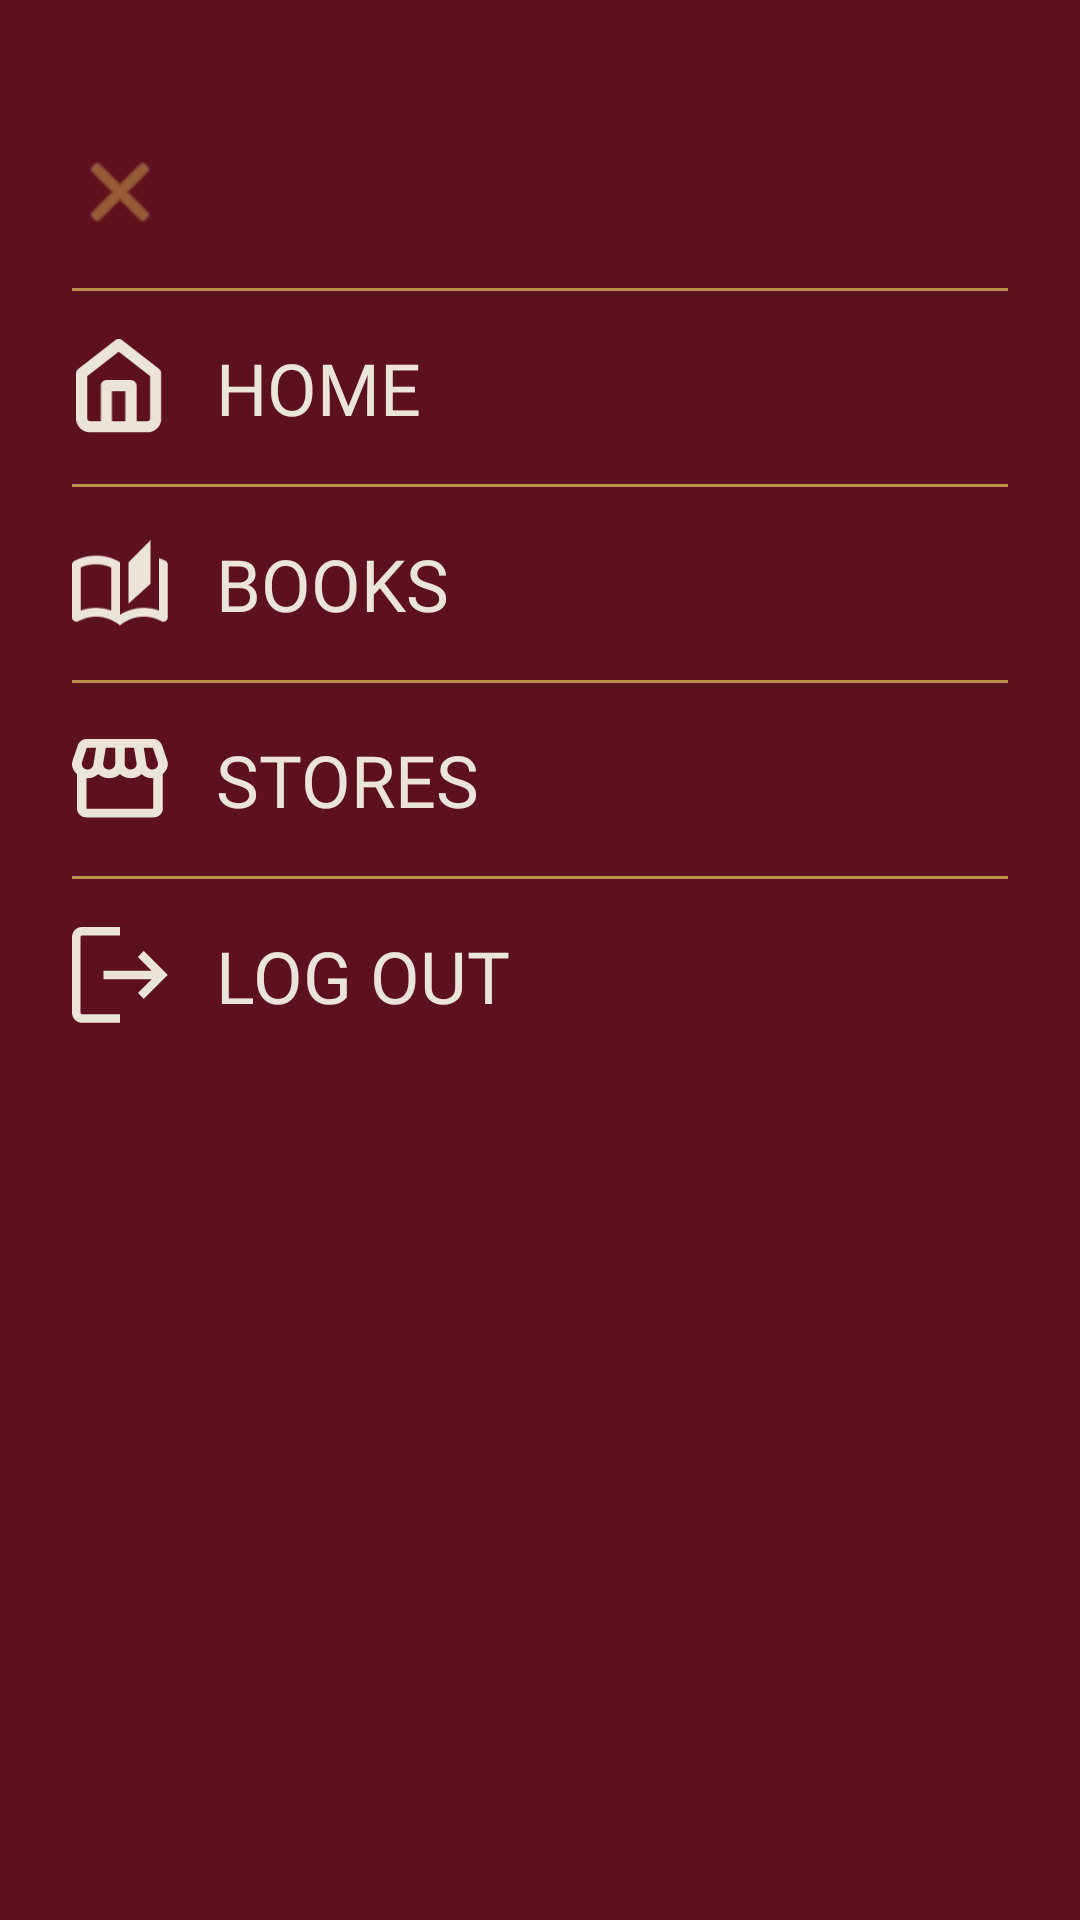

Named icons in this screenshot (1080w x 1920h) and their centers, (x=x, y=y):
close clear cancel: (x=120, y=192)
